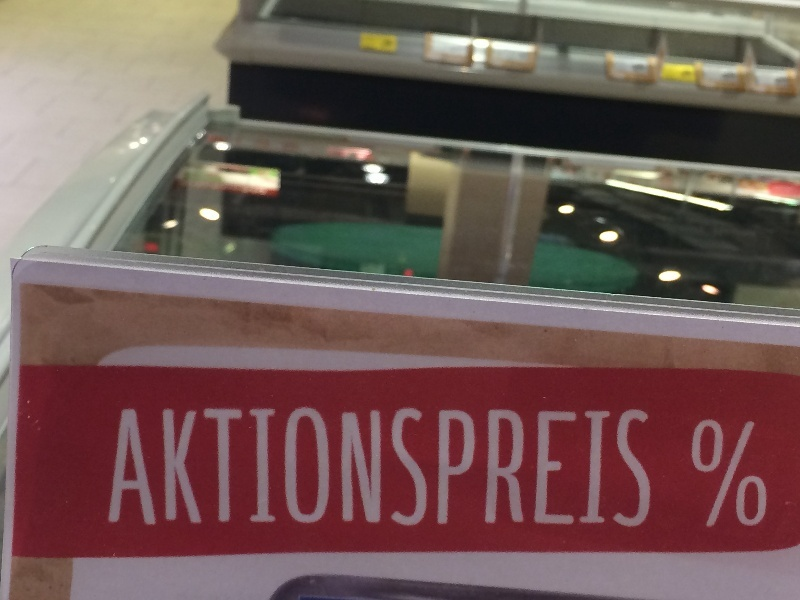text: (129, 403, 144, 533), (145, 403, 160, 533), (161, 403, 176, 533), (177, 403, 192, 533), (193, 403, 208, 533), (209, 403, 224, 533), (225, 403, 240, 533), (241, 403, 256, 533), (257, 403, 272, 533), (273, 403, 288, 533), (289, 403, 304, 533), (305, 403, 320, 533), (321, 403, 336, 533), (337, 403, 352, 533), (353, 403, 368, 533), (369, 403, 384, 533), (385, 403, 400, 533), (401, 403, 416, 533), (417, 403, 432, 533), (433, 403, 448, 533), (449, 403, 464, 533), (465, 403, 480, 533), (481, 403, 496, 533), (497, 403, 512, 533), (513, 403, 528, 533), (529, 403, 544, 533), (545, 403, 560, 533), (561, 403, 576, 533), (577, 403, 592, 533), (593, 403, 608, 533), (609, 403, 624, 533), (625, 403, 640, 533), (641, 403, 656, 533), (689, 413, 704, 535), (705, 413, 720, 535), (721, 413, 736, 535), (737, 413, 752, 535), (753, 413, 768, 535), (118, 403, 128, 533), (657, 403, 659, 533), (769, 413, 771, 535)
